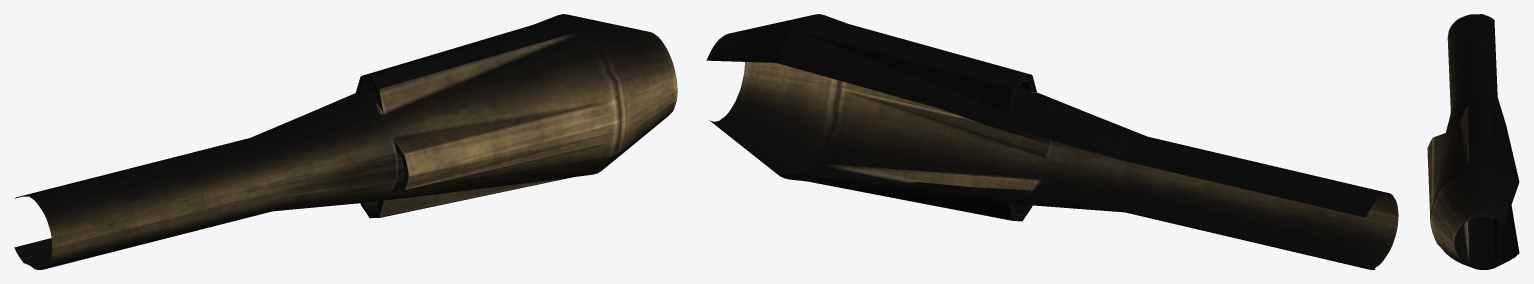
File: v_rock2_2.obj
3 renders of one model, left to right at view 1: azimuth 30°, elevation 25°; view 2: azimuth 150°, elevation 25°; view 3: azimuth 270°, elevation 25°, orthographic. The views are drawn at different scales.
Bounding box in the file's own units: 46.54 × 10.5 × 8.73.
1 material, 1 textured.
